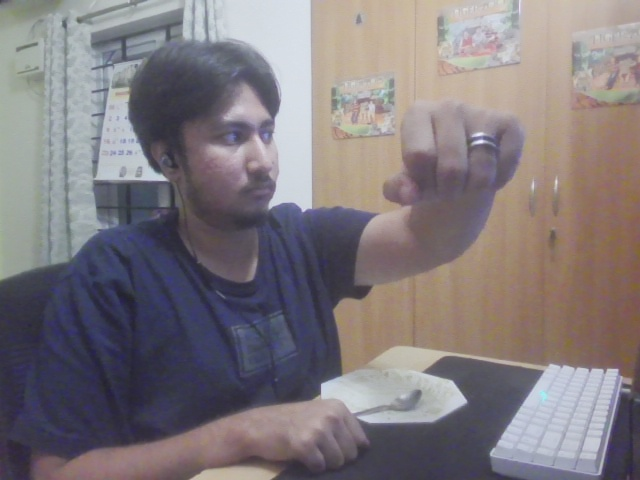yes: (380, 96, 529, 214)
